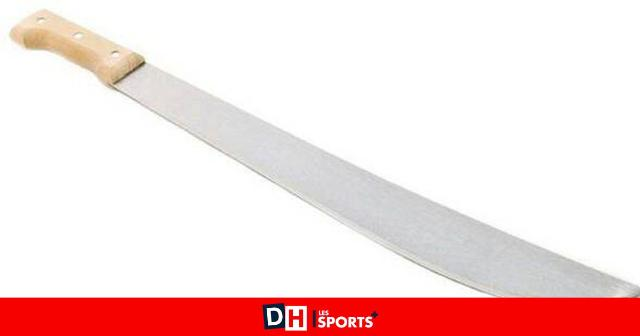long knife: (14, 13, 636, 307)
